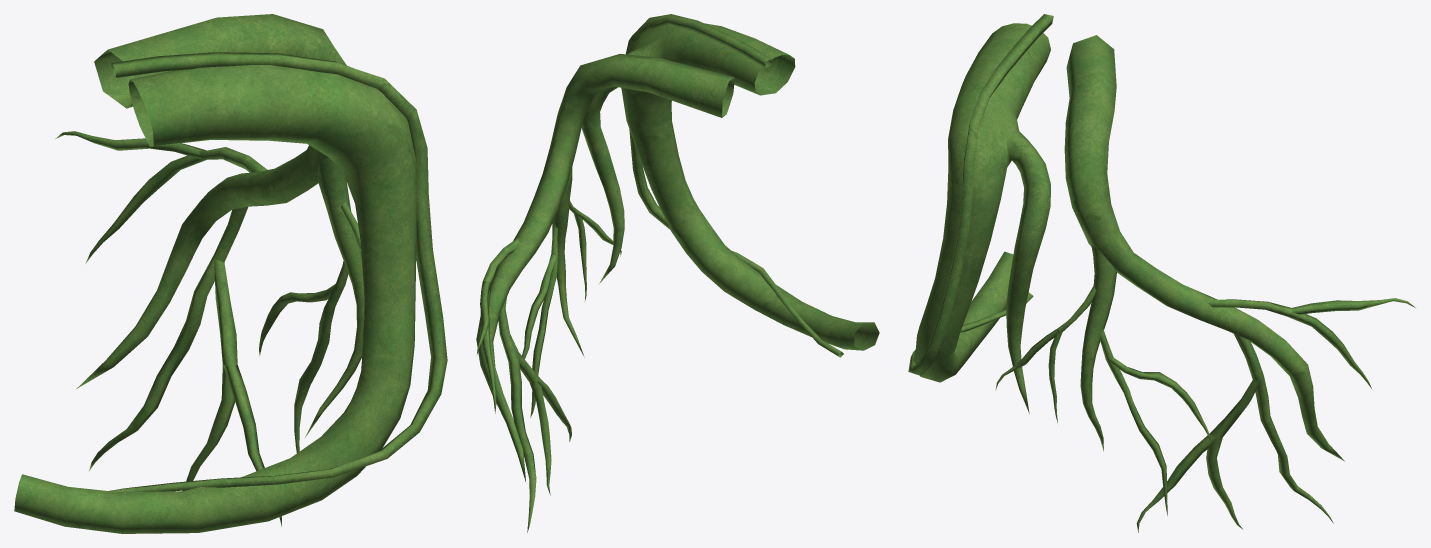
The model's file is SM_ENV_KNFRST_CliffRoots_B.FBX.
3 renders of one model, left to right at view 1: azimuth 30°, elevation 25°; view 2: azimuth 150°, elevation 25°; view 3: azimuth 270°, elevation 25°, orthographic. The views are drawn at different scales.
Visible parts, largest first — view 1: SM_ENV_KNFRST_CliffRoots_B; view 2: SM_ENV_KNFRST_CliffRoots_B; view 3: SM_ENV_KNFRST_CliffRoots_B.
Boxes of the visible parts, box(x1,y1,x2,y2) form: SM_ENV_KNFRST_CliffRoots_B: box(14, 14, 447, 533); SM_ENV_KNFRST_CliffRoots_B: box(476, 14, 879, 532); SM_ENV_KNFRST_CliffRoots_B: box(908, 14, 1415, 532).
Size of the model in its own units: 922 by 1259 by 1283.
